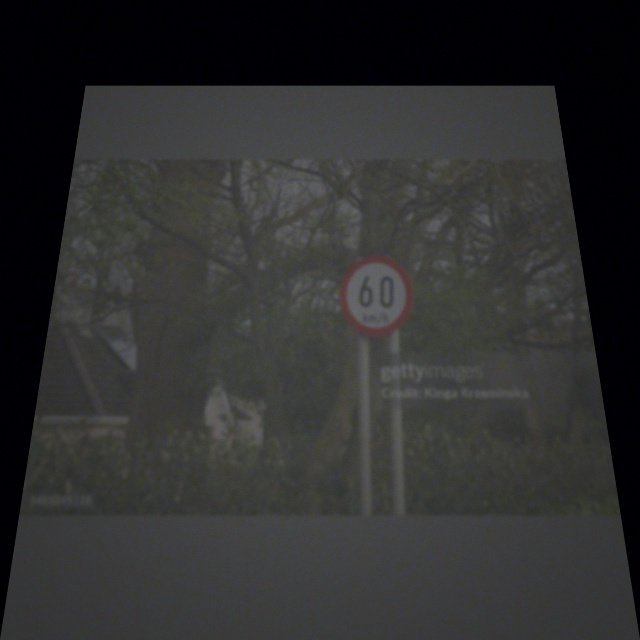Speed_Limit_60: (335, 254, 414, 340)
